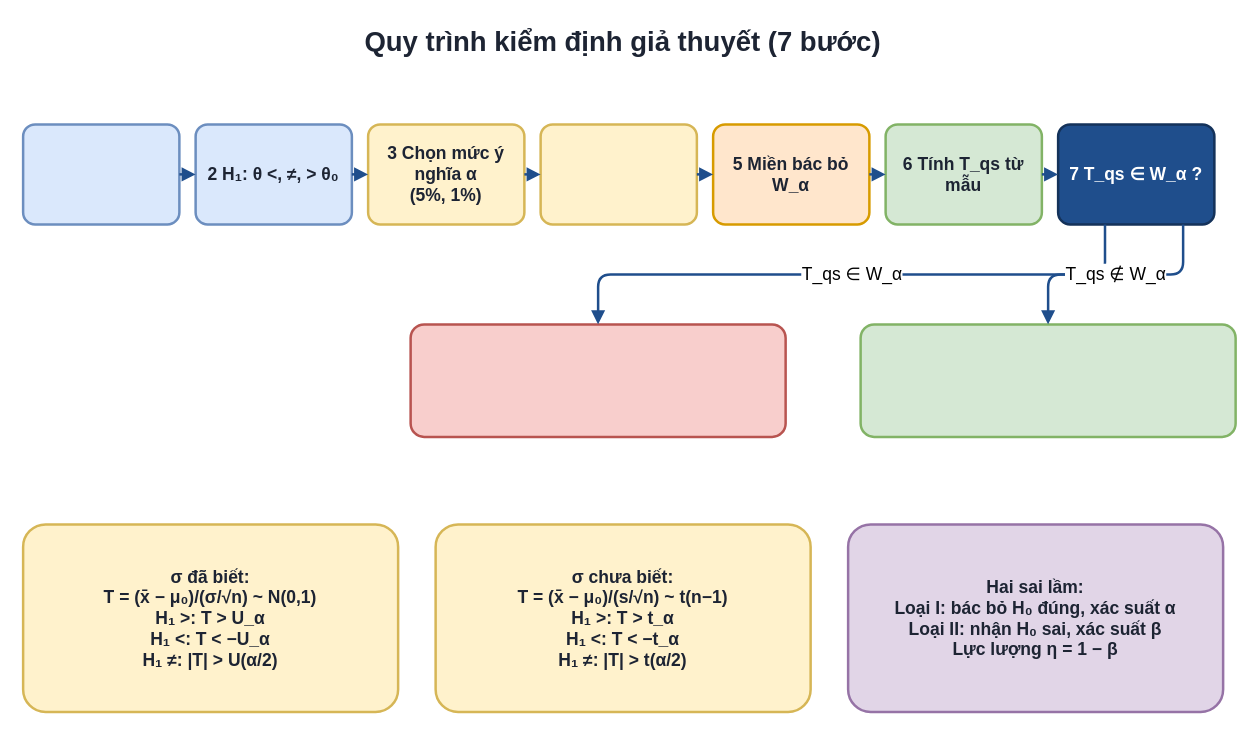
Some shapes in this 1258 by 734 pixel diagram are drawn without their labels. The box of each missing label's shape, as (x1, y1, x2, y2) in pixels:
1 H₀: θ = θ₀: (21, 122, 180, 225)
4 Tiêu chuẩn T (U hay t? χ²?): (539, 122, 698, 225)
Có: bác bỏ H₀, thừa nhận H₁: (409, 322, 786, 438)
Không: chưa đủ cơ sở bác bỏ H₀ (chấp nhận H₀): (859, 322, 1236, 438)
